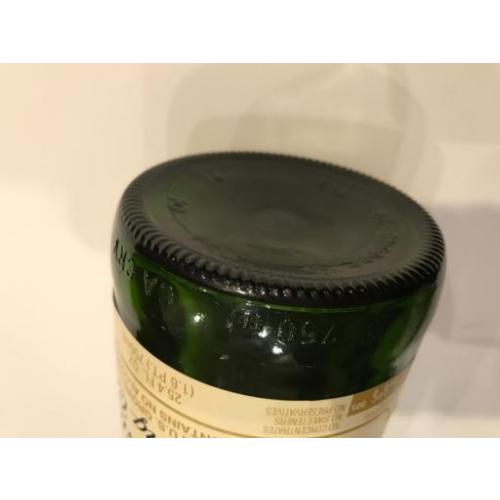glass: (110, 150, 446, 438)
